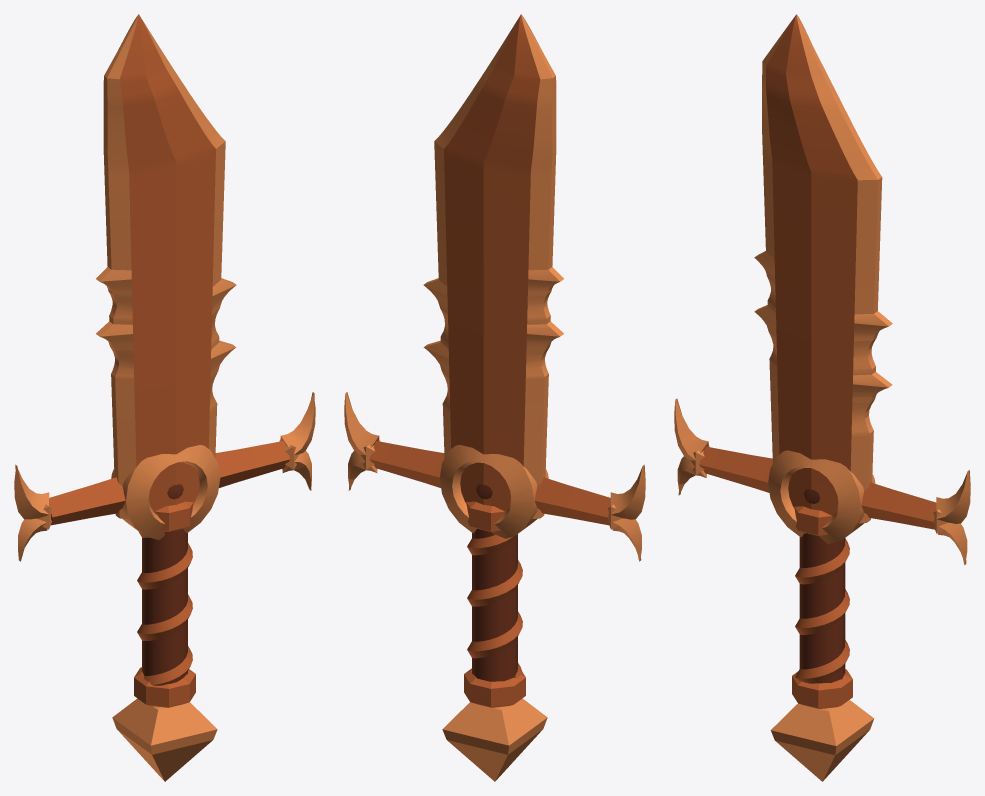
File: EpeeBronze.fbx
The picture shows the model from 3 angles, left to right: view 1: azimuth 30°, elevation 25°; view 2: azimuth 150°, elevation 25°; view 3: azimuth 330°, elevation 25°; orthographic projection.
Parts seen in each view (by area): view 1: Lame, Fil, Garde, Pommeau, Manche, Cadre, Embout, Tresse; view 2: Lame, Fil, Garde, Pommeau, Manche, Cadre, Embout, Tresse; view 3: Lame, Fil, Garde, Pommeau, Manche, Cadre, Embout, Tresse.
Boxes of the visible parts, box(x1,y1,x2,y2) form: Lame: box(119, 14, 215, 512); Fil: box(96, 14, 236, 518); Garde: box(49, 441, 290, 707); Pommeau: box(112, 698, 217, 781); Manche: box(142, 528, 187, 677); Cadre: box(111, 445, 220, 539); Embout: box(14, 392, 315, 561); Tresse: box(137, 531, 192, 685); Lame: box(444, 14, 540, 512); Fil: box(423, 14, 563, 518); Garde: box(369, 441, 610, 707); Pommeau: box(442, 698, 547, 781); Manche: box(472, 528, 517, 681); Cadre: box(439, 445, 548, 538); Embout: box(344, 392, 645, 561); Tresse: box(467, 535, 522, 678); Lame: box(766, 14, 857, 517); Fil: box(754, 14, 892, 523); Garde: box(699, 446, 936, 708); Pommeau: box(770, 700, 874, 781); Manche: box(799, 533, 845, 683); Cadre: box(768, 450, 875, 543); Embout: box(674, 398, 970, 564); Tresse: box(795, 532, 849, 683).
Size of the model in its own units: 172 by 423 by 38.18.
